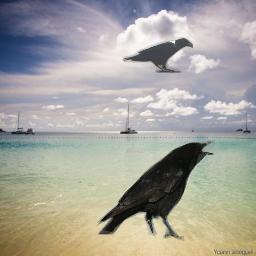Crow: (96, 139, 217, 242), (122, 37, 193, 73)
